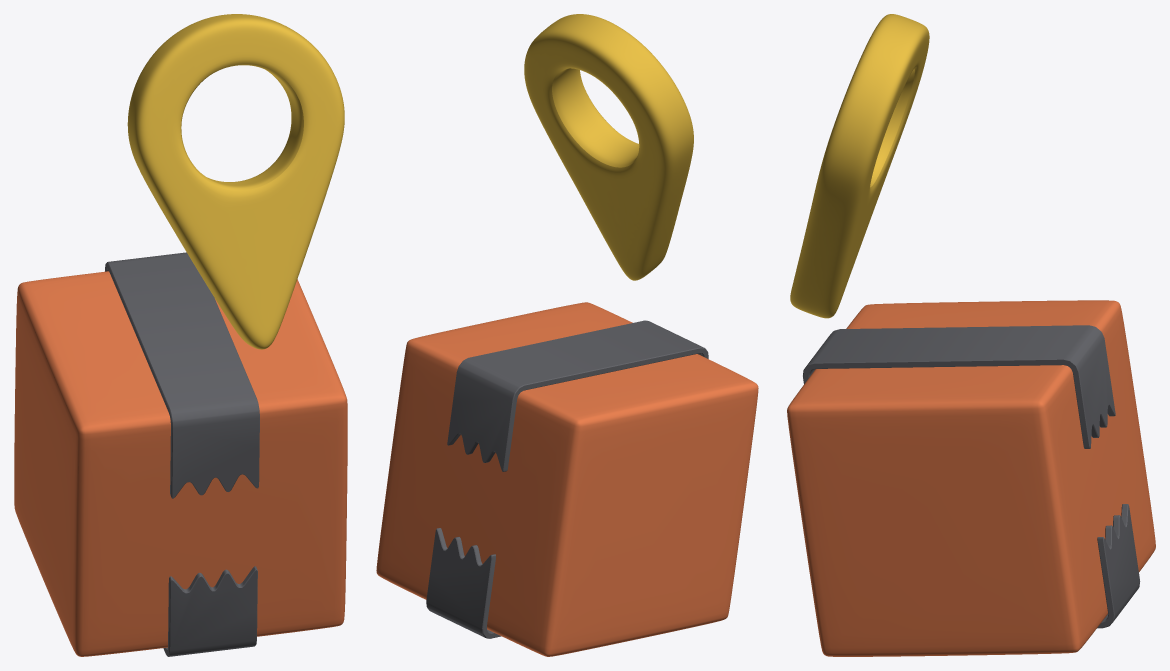
The model's file is delivery-track-3d-icon-1564995829839.glb.
The picture shows the model from 3 angles, left to right: view 1: azimuth 30°, elevation 25°; view 2: azimuth 150°, elevation 25°; view 3: azimuth 270°, elevation 25°; orthographic projection. The views are drawn at different scales.
Visible parts, largest first — view 1: Box, Pin Location, Tape; view 2: Box, Pin Location, Tape; view 3: Box, Pin Location, Tape.
Boxes of the visible parts, x1,y1,x2,y2 form: Box: (14, 271, 347, 656); Pin Location: (127, 14, 344, 349); Tape: (105, 252, 259, 656); Box: (376, 302, 758, 656); Pin Location: (524, 14, 693, 280); Tape: (426, 320, 708, 638); Box: (787, 300, 1155, 656); Pin Location: (790, 14, 929, 318); Tape: (803, 325, 1140, 628).
Size of the model in its own units: 1.07 by 2.05 by 1.13.
